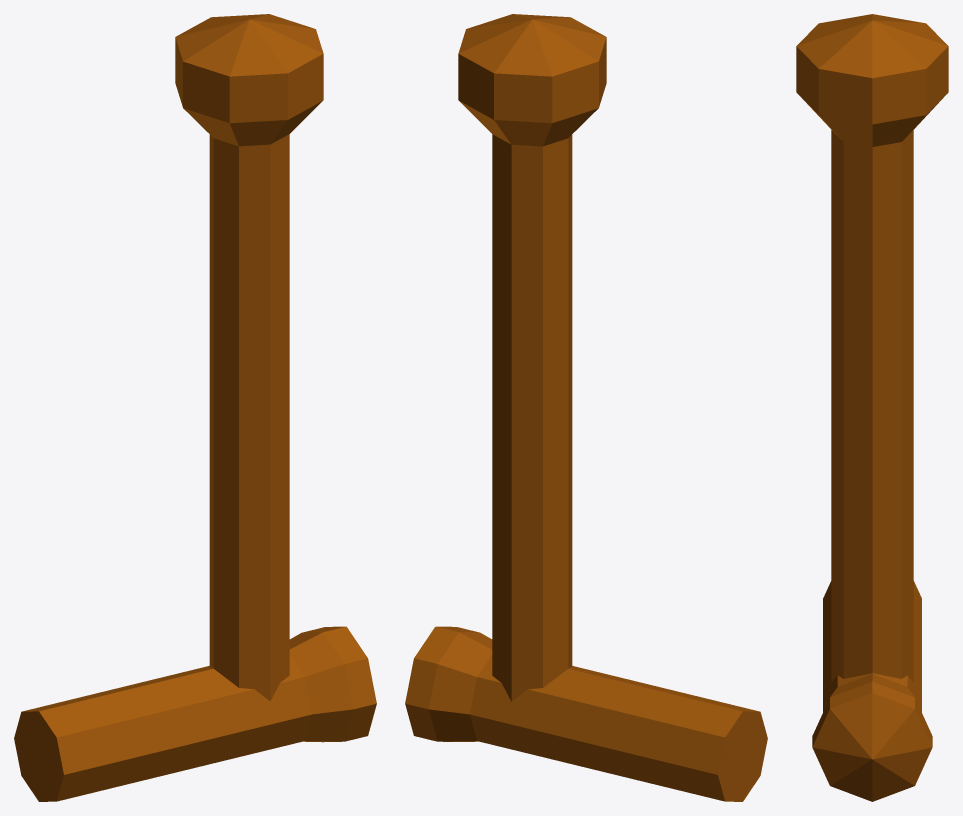
The model's file is slot_machine_sonjabi.obj.
3 views of the same model, side by side, from view 1: azimuth 30°, elevation 25°; view 2: azimuth 150°, elevation 25°; view 3: azimuth 270°, elevation 25° (orthographic).
Visible parts, largest first — view 1: Object__11; view 2: Object__11; view 3: Object__11.
Boxes of the visible parts, x1=… form: Object__11: x1=14, y1=14, x2=376, y2=801; Object__11: x1=405, y1=14, x2=767, y2=801; Object__11: x1=796, y1=14, x2=948, y2=801.
Size of the model in its own units: 0.3625 by 0.7721 by 0.145.
